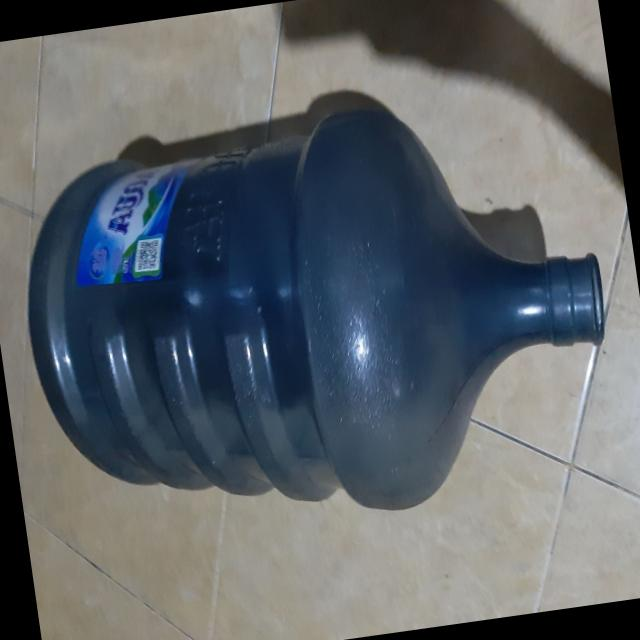Galon: (2, 61, 631, 560)
